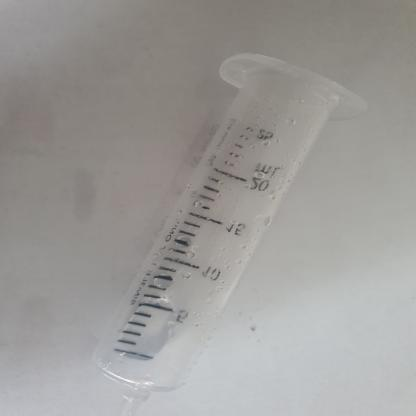wet: (72, 46, 371, 415)
